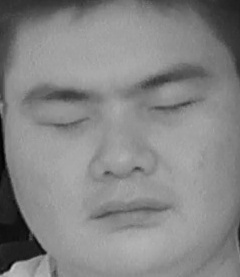blink: (150, 90, 198, 125), (43, 106, 89, 140)
mouth: (84, 189, 176, 240)
